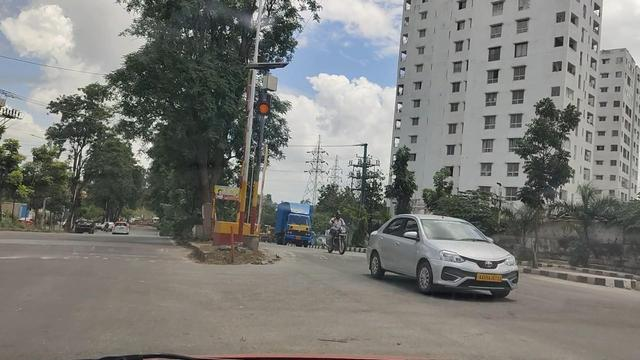LMV: (371, 212, 519, 297)
